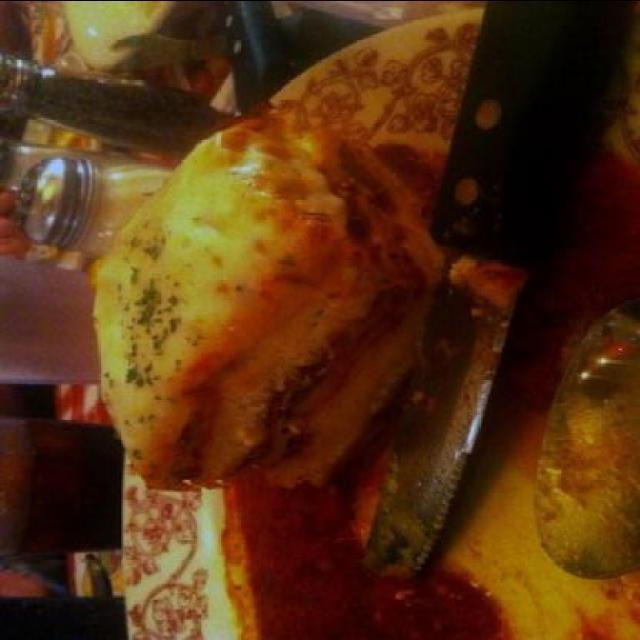Lasagna: (70, 82, 534, 528)
